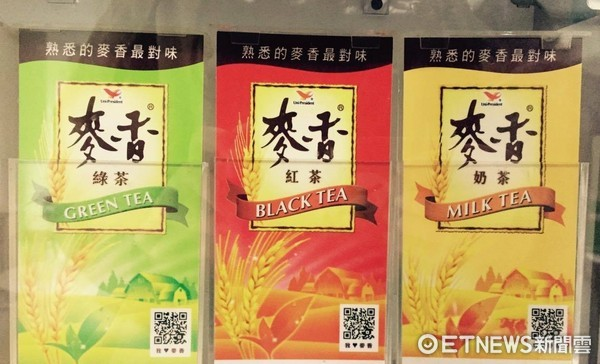milk tea: (405, 35, 579, 363)
